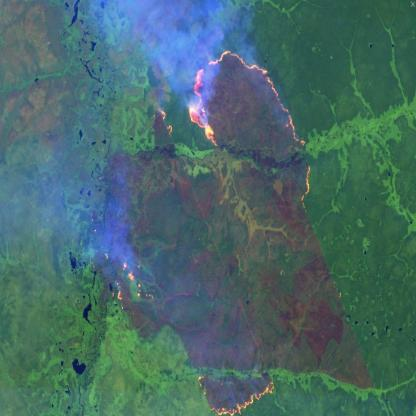fire: (158, 46, 313, 214), (194, 373, 284, 416), (104, 249, 156, 310)
